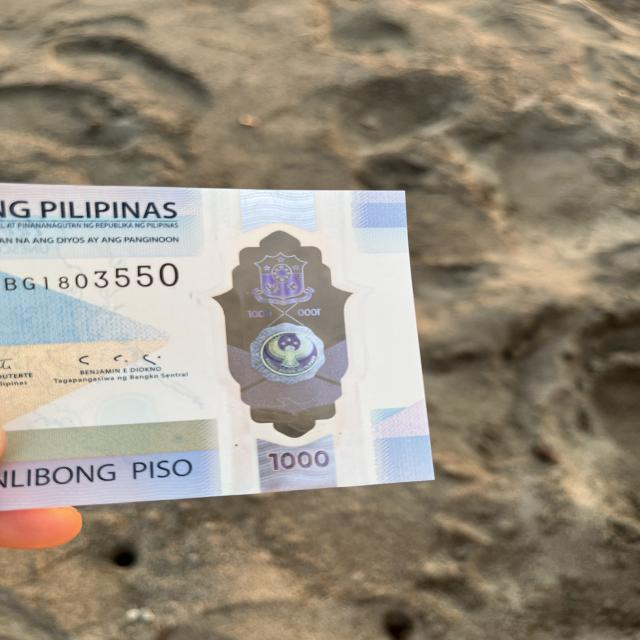clear_window: (198, 186, 371, 497)
